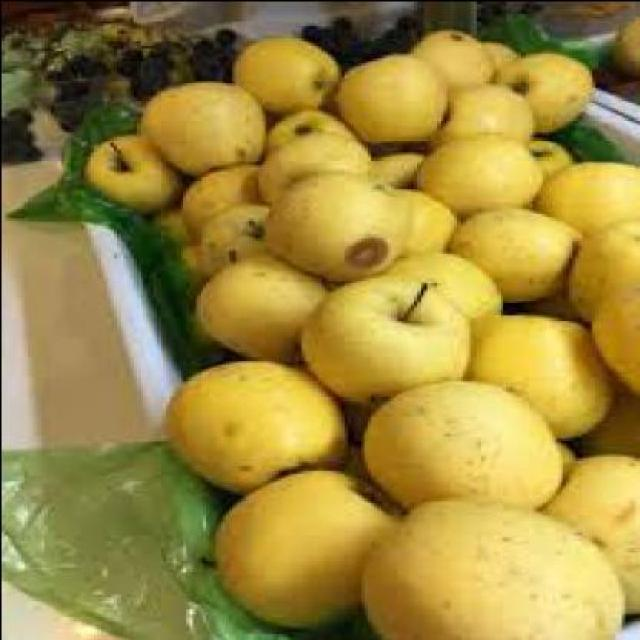BIODEGRADABLE: (356, 492, 618, 638), (212, 462, 402, 622), (356, 376, 561, 506), (168, 353, 343, 484), (293, 272, 462, 398), (465, 308, 613, 438), (532, 447, 636, 618), (185, 252, 320, 360), (264, 166, 396, 274), (438, 202, 574, 300), (134, 74, 258, 168), (405, 128, 538, 214), (330, 50, 448, 138), (532, 158, 636, 240), (79, 131, 178, 212), (560, 215, 637, 319), (488, 49, 587, 129), (254, 129, 363, 200), (386, 247, 499, 315), (232, 32, 333, 103), (293, 5, 422, 60), (172, 160, 260, 238), (426, 82, 528, 142), (584, 274, 636, 388), (406, 25, 494, 84), (188, 200, 264, 265), (43, 48, 109, 119), (1, 23, 54, 108), (392, 182, 458, 250), (86, 10, 185, 42), (114, 41, 168, 94), (261, 103, 350, 134), (185, 22, 237, 75), (360, 148, 422, 188), (600, 10, 637, 75), (524, 132, 570, 178), (46, 22, 106, 55), (144, 208, 184, 254), (3, 107, 43, 153), (474, 39, 514, 59)
